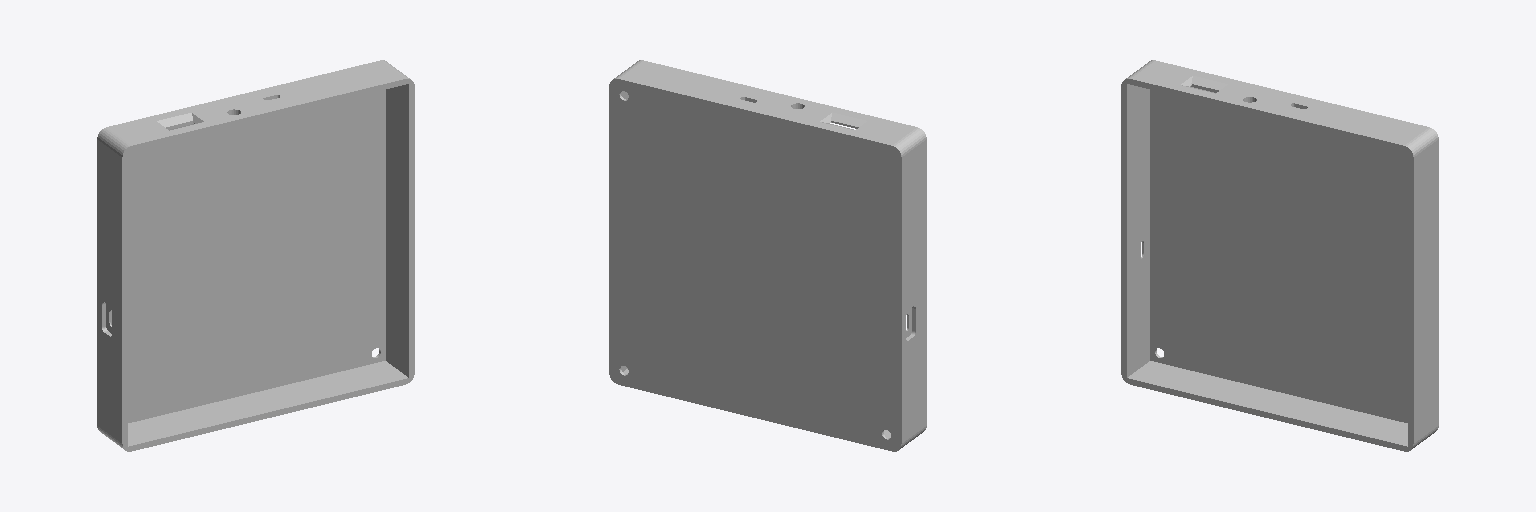
File: bottom.obj
3 renders of one model, left to right at view 1: azimuth 30°, elevation 25°; view 2: azimuth 150°, elevation 25°; view 3: azimuth 330°, elevation 25°, orthographic.
Visible parts, largest first — view 1: mmGroup0; view 2: mmGroup0; view 3: mmGroup0.
Boxes of the visible parts, x1=… form: mmGroup0: x1=97, y1=60, x2=414, y2=451; mmGroup0: x1=609, y1=60, x2=926, y2=451; mmGroup0: x1=1121, y1=60, x2=1438, y2=451.
Size of the model in its own units: 157 by 157 by 23.5.